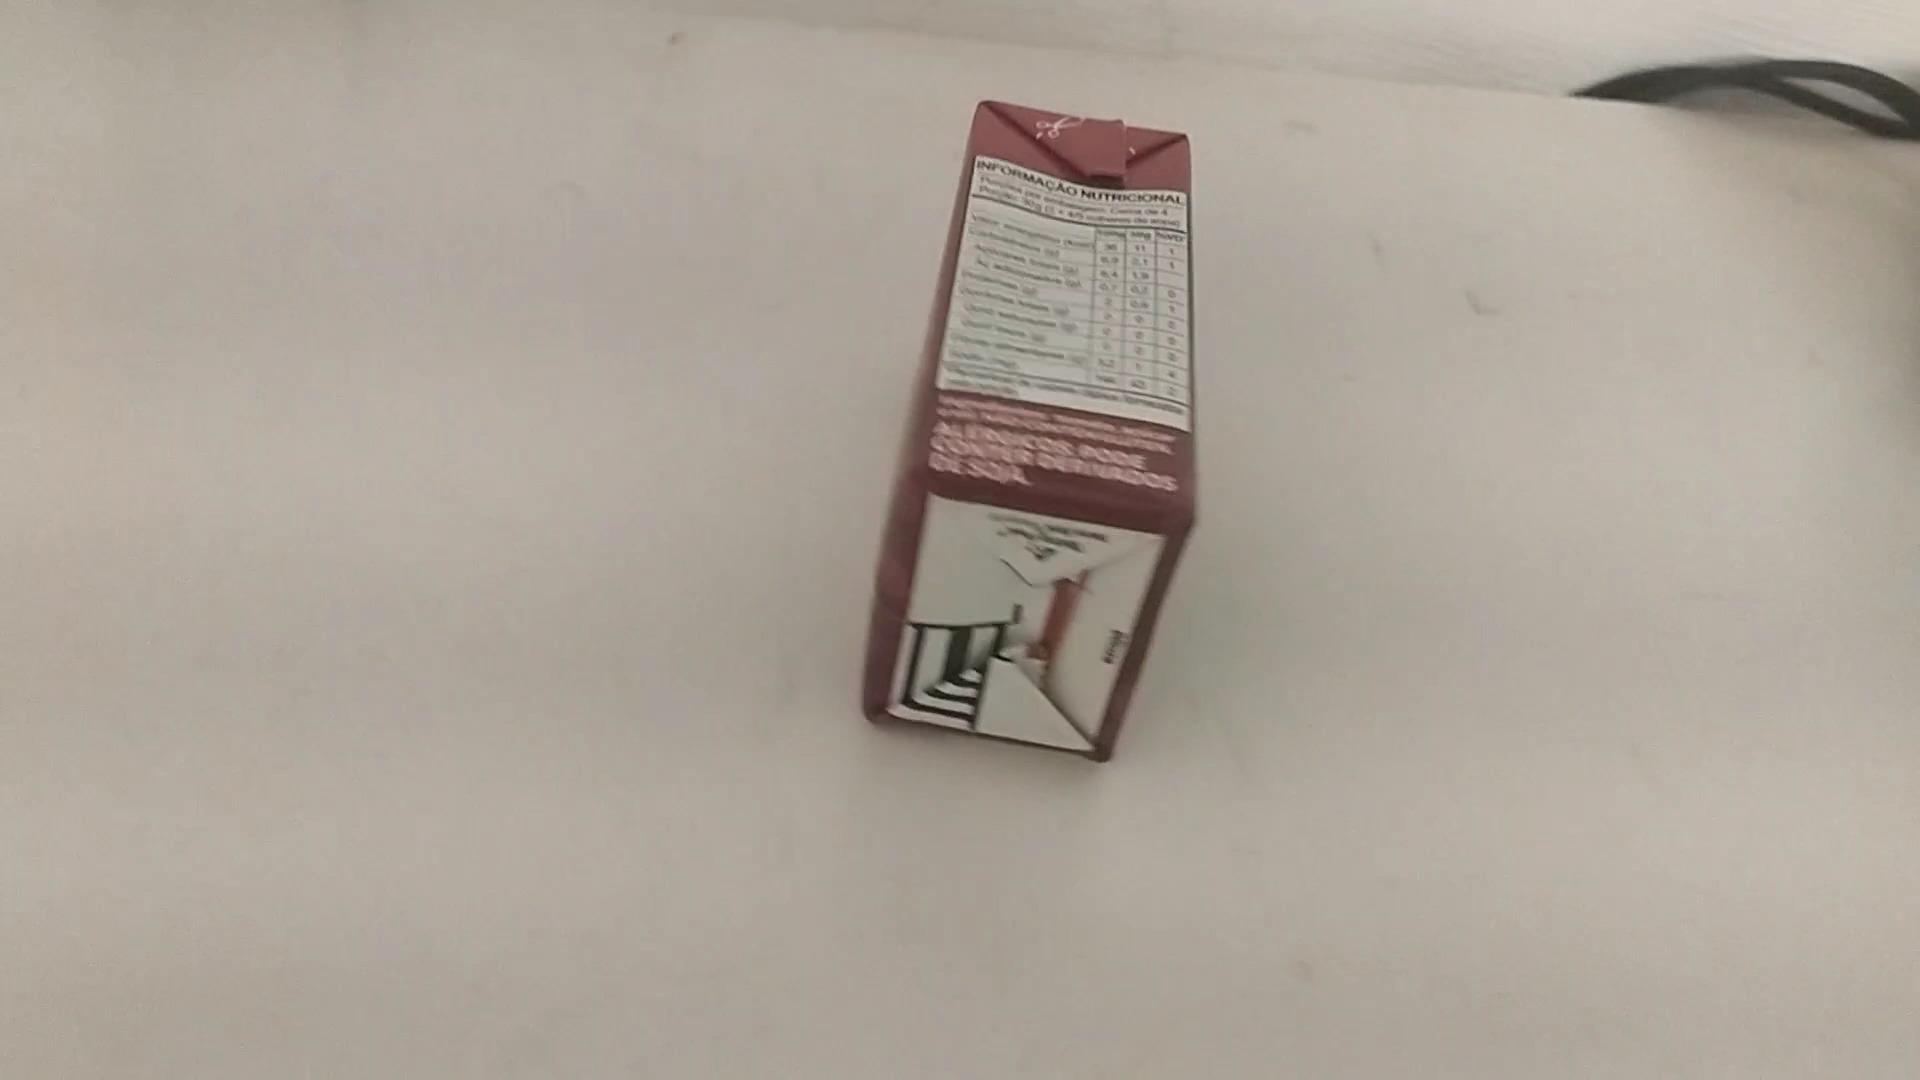tomate: (862, 98, 1201, 767)
